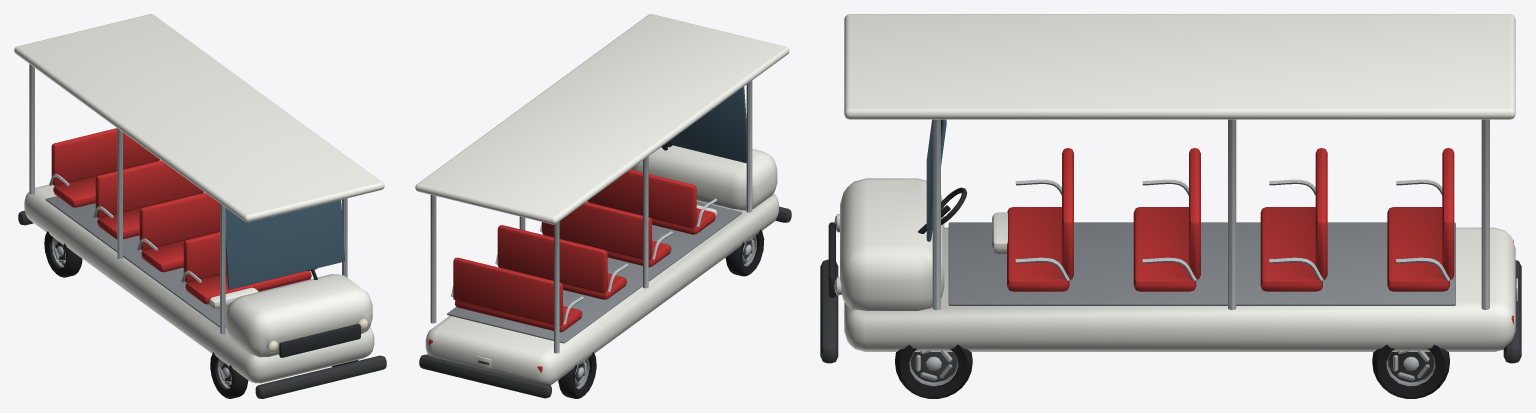
Rendered from veh-touristCart.glb.
3 views of the same model, side by side, from view 1: azimuth 30°, elevation 25°; view 2: azimuth 150°, elevation 25°; view 3: azimuth 270°, elevation 25° (orthographic). The views are drawn at different scales.
Visible parts, largest first — view 1: body, wheel1, wheel3; view 2: body, wheel3, wheel1; view 3: body, wheel0, wheel2.
Part boxes in pixels (x1,y1,x2,y2): body: (14,14,386,398); wheel1: (210,352,248,398); wheel3: (44,231,82,277); body: (415,14,791,398); wheel3: (558,352,596,398); wheel1: (725,229,764,276); body: (820,14,1521,363); wheel0: (895,344,972,398); wheel2: (1372,344,1449,398).
Bounding box in the file's own units: 1.56 × 2.19 × 4.7.
